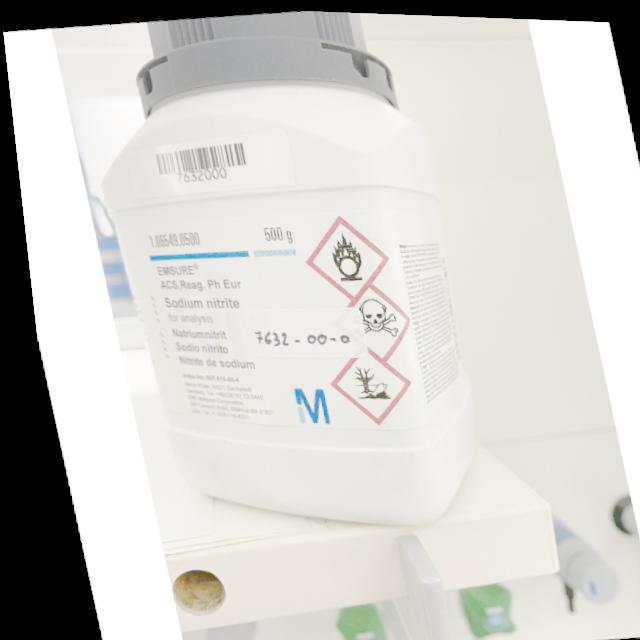acute toxicity: (342, 293, 393, 337)
hazardous to the environment: (343, 360, 383, 399)
oxidising: (321, 227, 360, 281)
